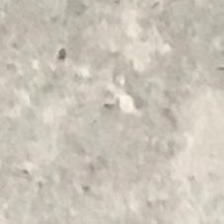Non_Crack: (29, 14, 194, 216)
